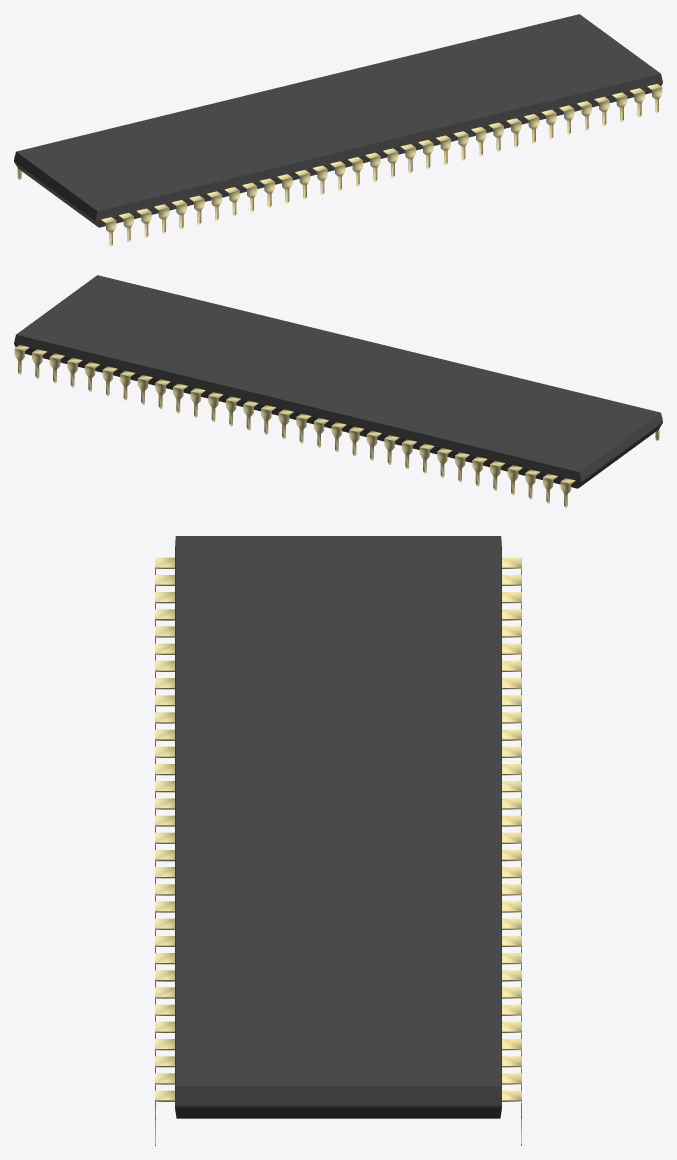
The picture shows the model from 3 angles, top to bottom: view 1: azimuth 30°, elevation 25°; view 2: azimuth 150°, elevation 25°; view 3: azimuth 270°, elevation 25°; orthographic projection. The views are drawn at different scales.
Parts seen in each view (by area): view 1: Housing, Pin; view 2: Housing, Pin; view 3: Housing, Pin.
Boxes of the visible parts, x1,y1,x2,y2 form: Housing: [14, 14, 662, 227]; Pin: [14, 84, 662, 246]; Housing: [14, 275, 662, 488]; Pin: [14, 345, 662, 507]; Housing: [175, 536, 501, 1118]; Pin: [155, 557, 521, 1145].
Size of the model in its own units: 0.854 by 0.0486 by 0.2394.
